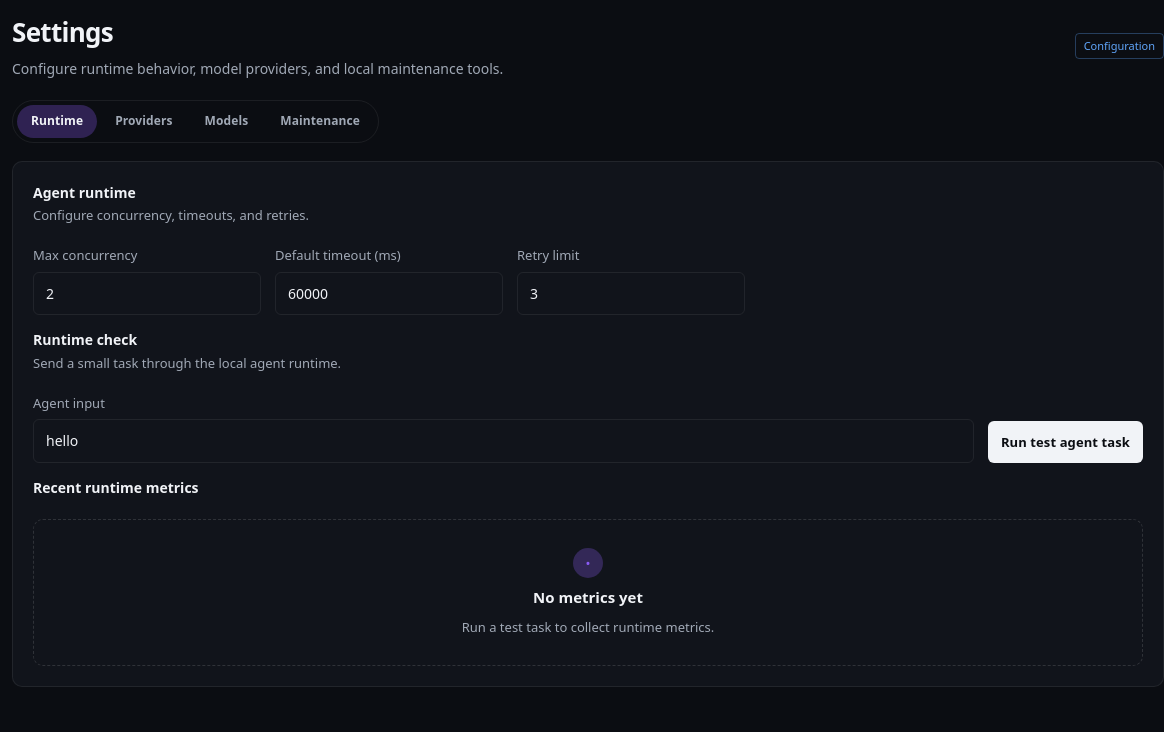
Test case: SettingsView runtime values › does not persist an empty numeric value and reports validation
This screenshot has width=1164, height=732.
Clear the number field labelled "Max concurrency" at (147, 293), box [33,272,261,315]
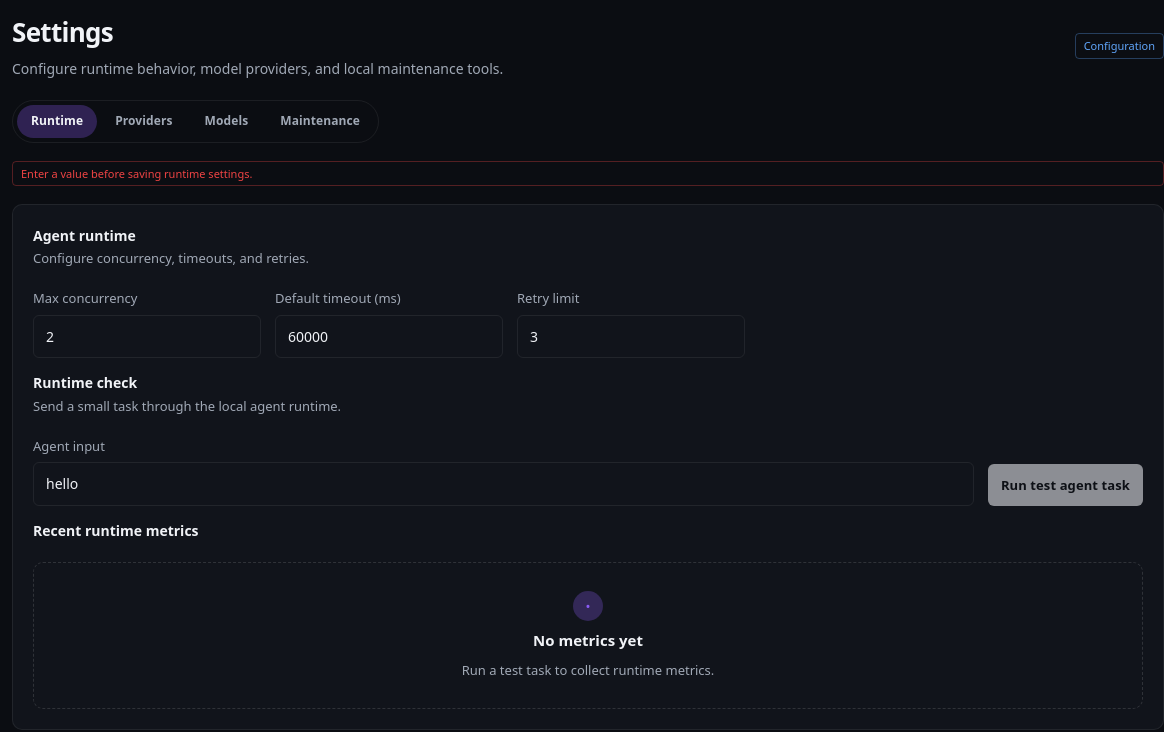
expect the message "Enter a value before saving runtime settings." is shown: met, box [12,161,1163,186]
